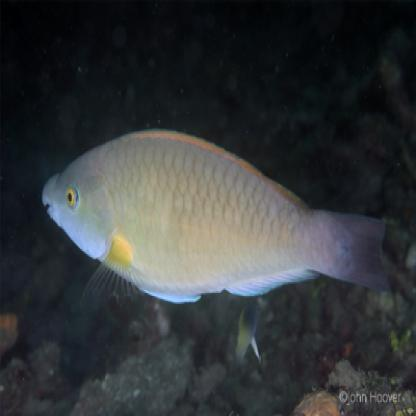parrot: (39, 108, 394, 308)
